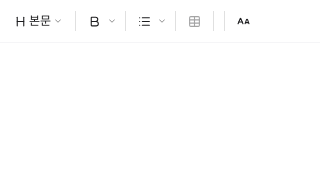
Scenario: TipTapMenuBar Confluence식 메뉴 › 보기 설정 메뉴에 글자 크기·줄 간격이 표시된다
The width and height of the screenshot is (320, 169).
Click the button with test id "editor-menubar-viewsettings-source" at [244, 21], box left=231, top=8, right=256, bottom=34
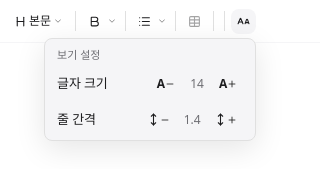
Now the text "보기 설정" is shown, box left=57, top=46, right=100, bottom=62
Now the text "글자 크기" is shown, box left=57, top=74, right=108, bottom=94
Now the text "줄 간격" is shown, box left=57, top=110, right=96, bottom=129
